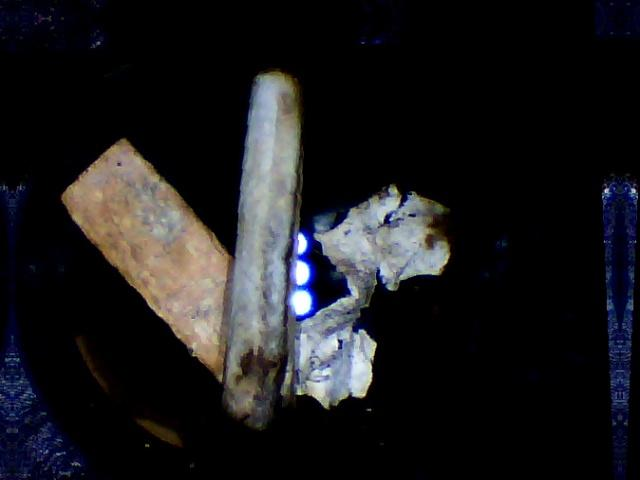megot: (38, 116, 302, 409), (196, 68, 332, 440)
